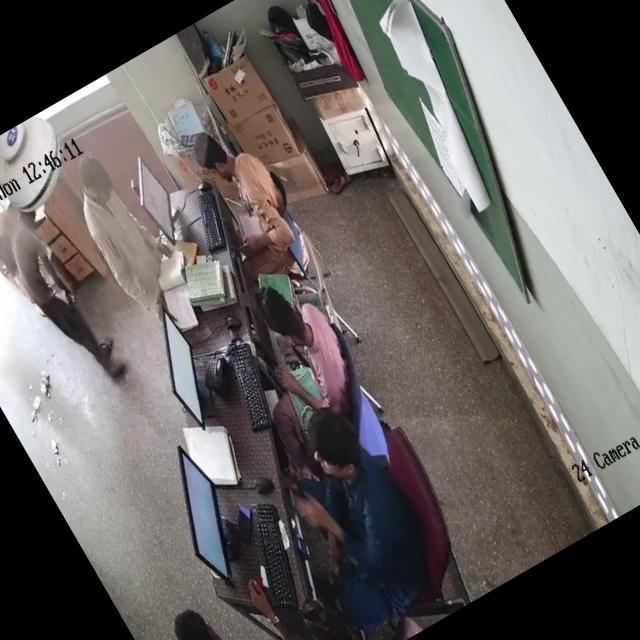person: (248, 391, 444, 624), (53, 146, 186, 328), (0, 196, 123, 379), (185, 112, 306, 278), (243, 274, 360, 411), (241, 550, 375, 640), (158, 578, 300, 640)
